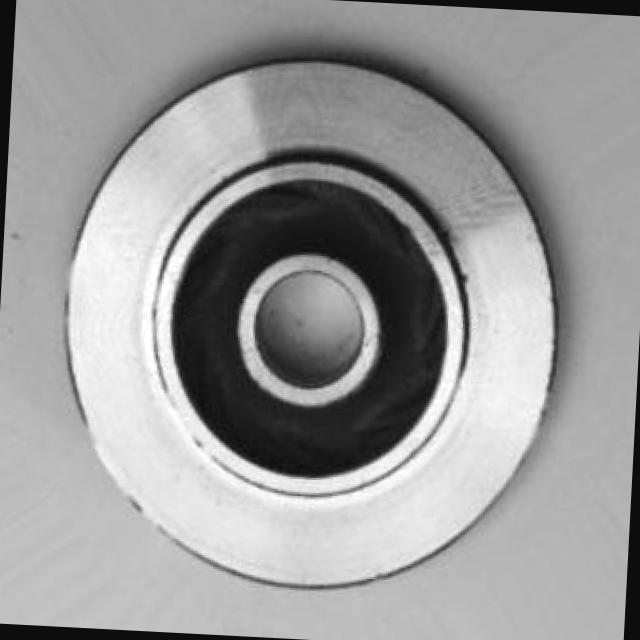Defect: (453, 260, 484, 298)
